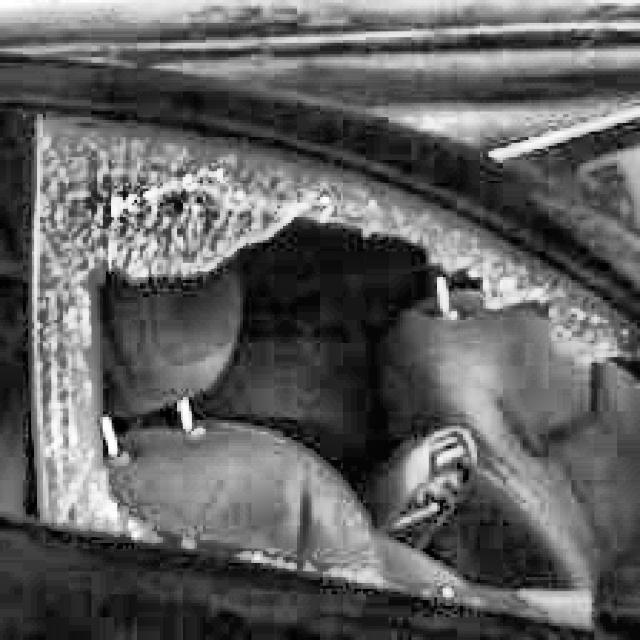glass_shatter: (70, 221, 631, 605)
